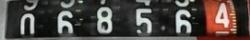digits: (134, 7, 154, 36), (174, 8, 192, 35), (214, 1, 230, 31), (96, 7, 113, 34), (56, 10, 74, 35), (20, 12, 36, 35)
